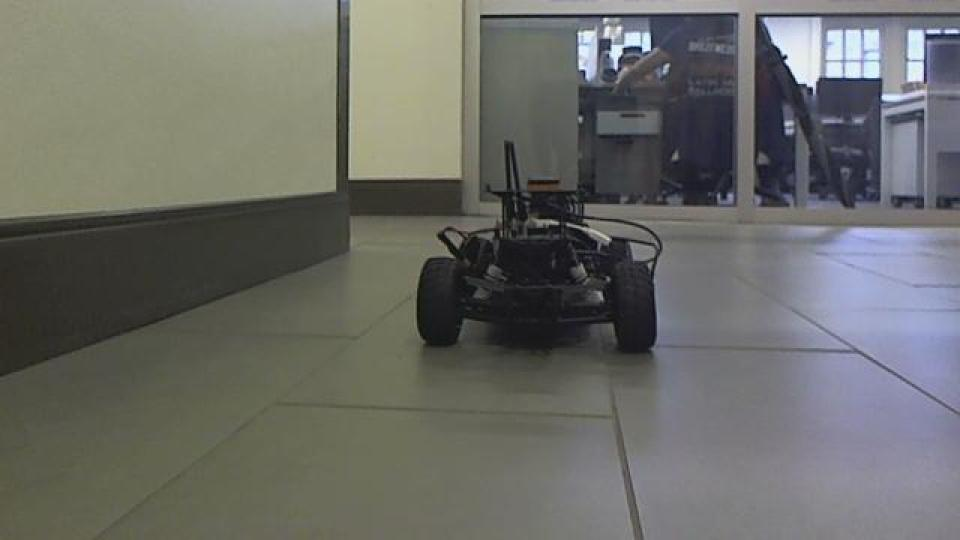car: (411, 138, 665, 356)
